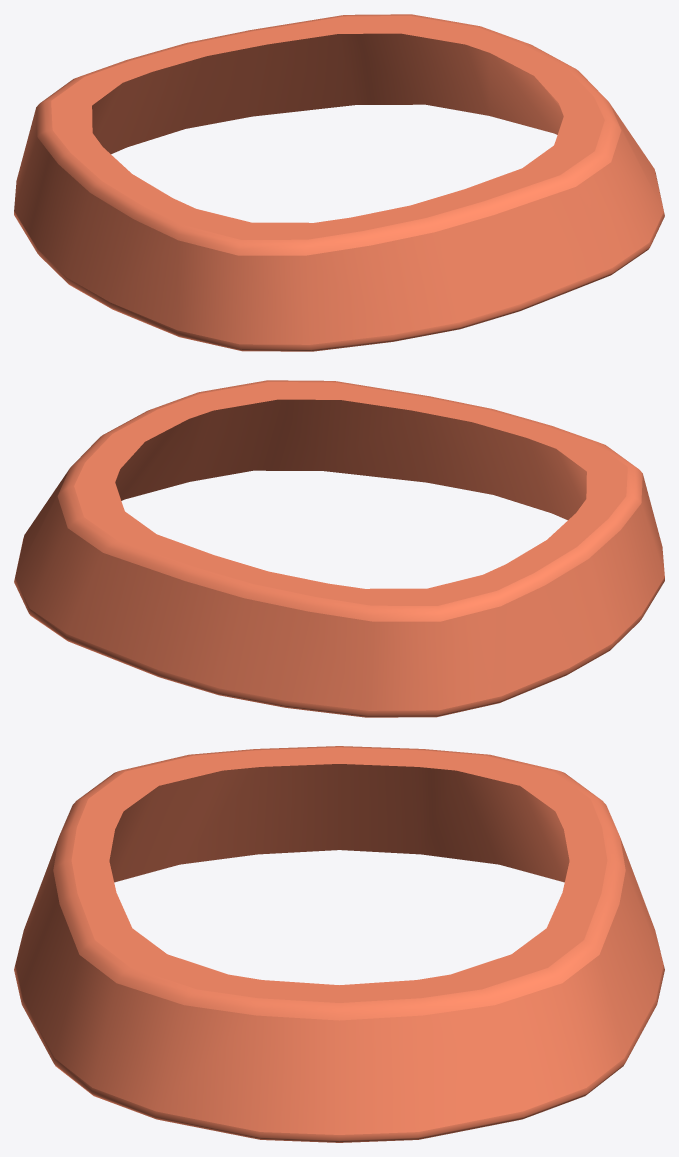
Rendered from HeadBandana.fbx.
The picture shows the model from 3 angles, top to bottom: view 1: azimuth 30°, elevation 25°; view 2: azimuth 150°, elevation 25°; view 3: azimuth 270°, elevation 25°; orthographic projection. The views are drawn at different scales.
Visible parts, largest first — view 1: HeadBandana; view 2: HeadBandana; view 3: HeadBandana.
Boxes of the visible parts, x1,y1,x2,y2 form: HeadBandana: (14,14,664,351); HeadBandana: (14,380,664,717); HeadBandana: (14,746,664,1142).
Size of the model in its own units: 0.9147 by 0.8164 by 0.1511.
